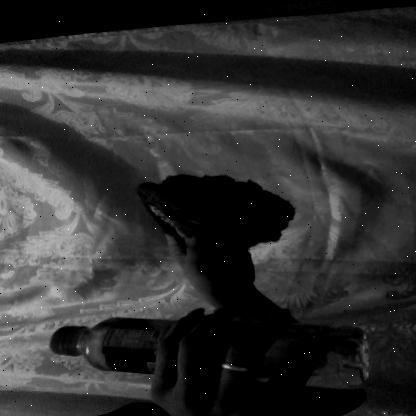Plastic Bottle: (39, 295, 385, 396)
